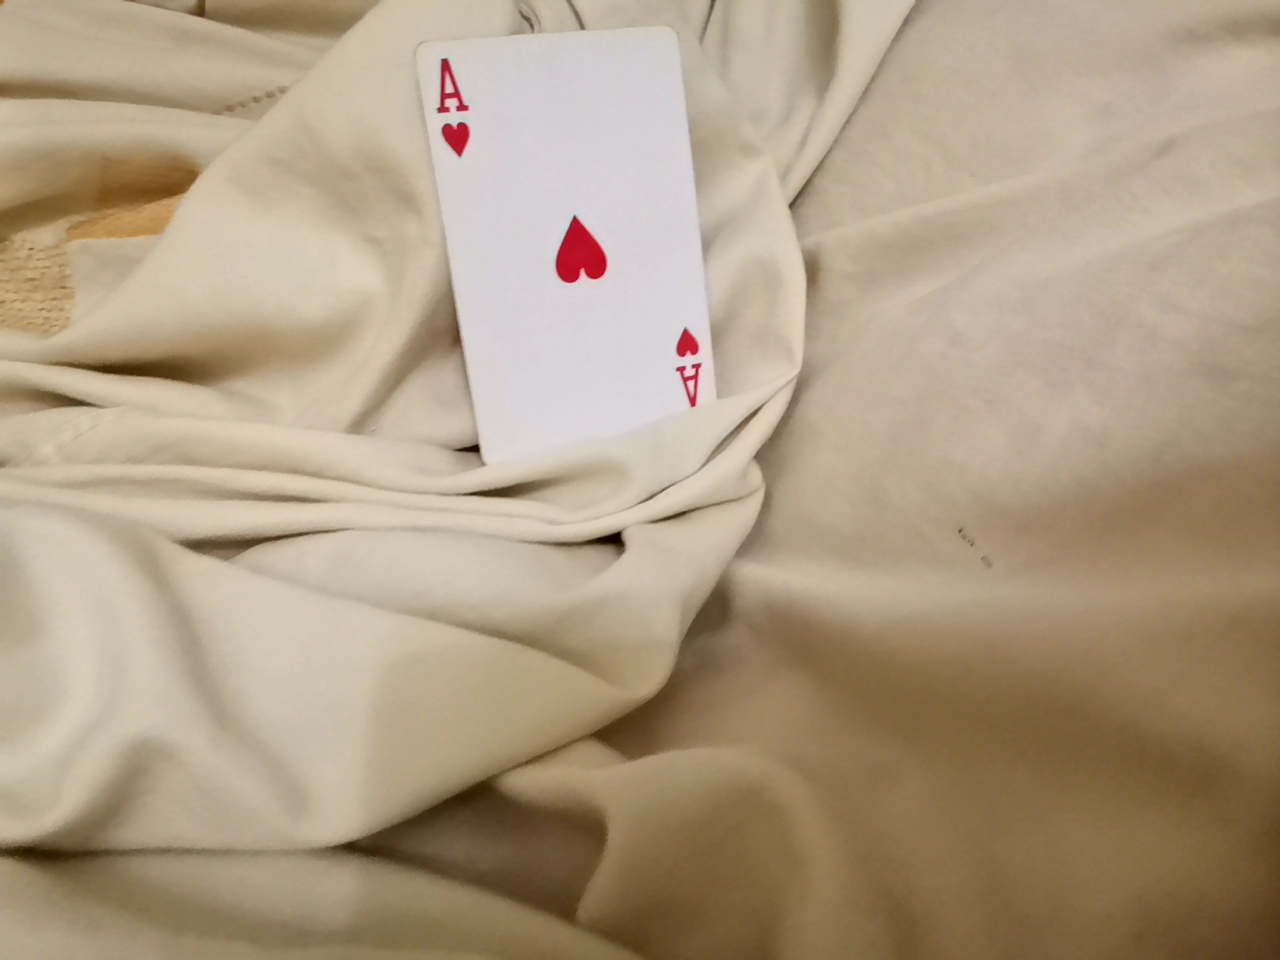hx a: (406, 17, 727, 502)
